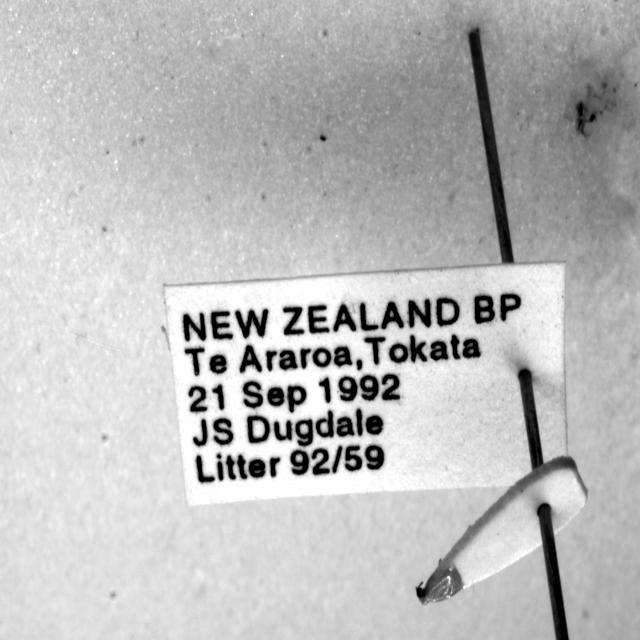typed_label: (165, 262, 566, 504)
